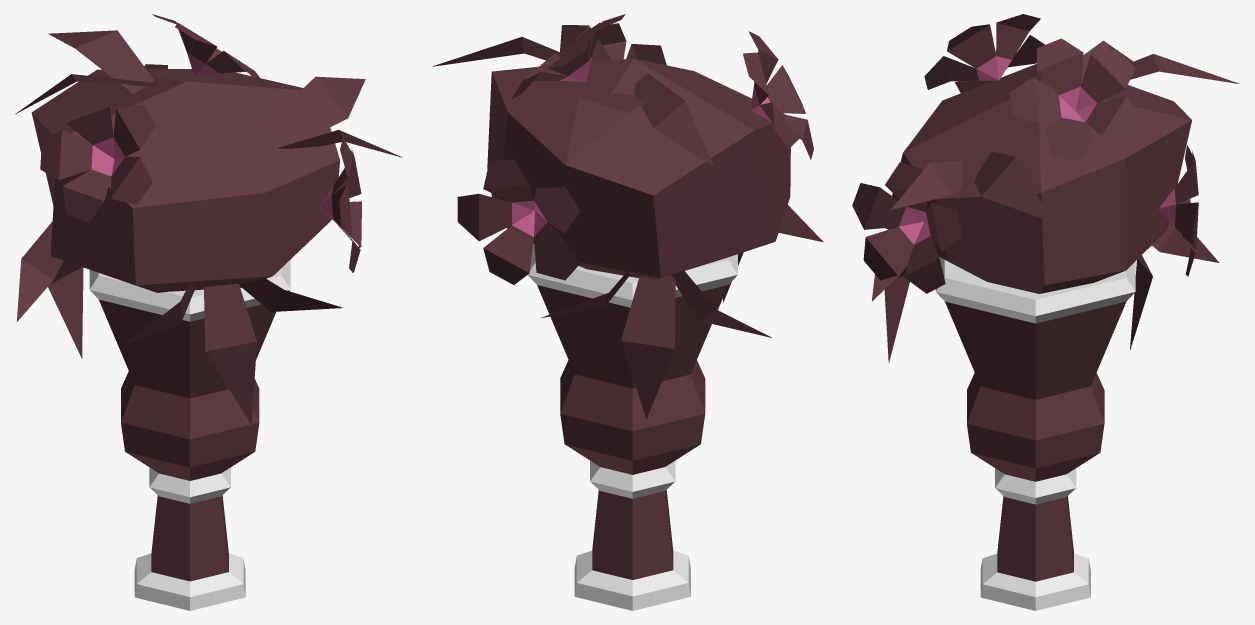
Rendered from SM_Flowerpot_Standing_Small_Empire.fbx.
3 views of the same model, side by side, from view 1: azimuth 30°, elevation 25°; view 2: azimuth 150°, elevation 25°; view 3: azimuth 270°, elevation 25° (orthographic). The views are drawn at different scales.
Parts seen in each view (by area): view 1: SM_Flowerpot_Standing_Small_Empire; view 2: SM_Flowerpot_Standing_Small_Empire; view 3: SM_Flowerpot_Standing_Small_Empire.
Boxes of the visible parts, box(x1,y1,x2,y2) form: SM_Flowerpot_Standing_Small_Empire: box(15, 14, 402, 610); SM_Flowerpot_Standing_Small_Empire: box(433, 14, 823, 610); SM_Flowerpot_Standing_Small_Empire: box(852, 14, 1239, 610).
Size of the model in its own units: 0.6079 by 0.9429 by 0.6098.
